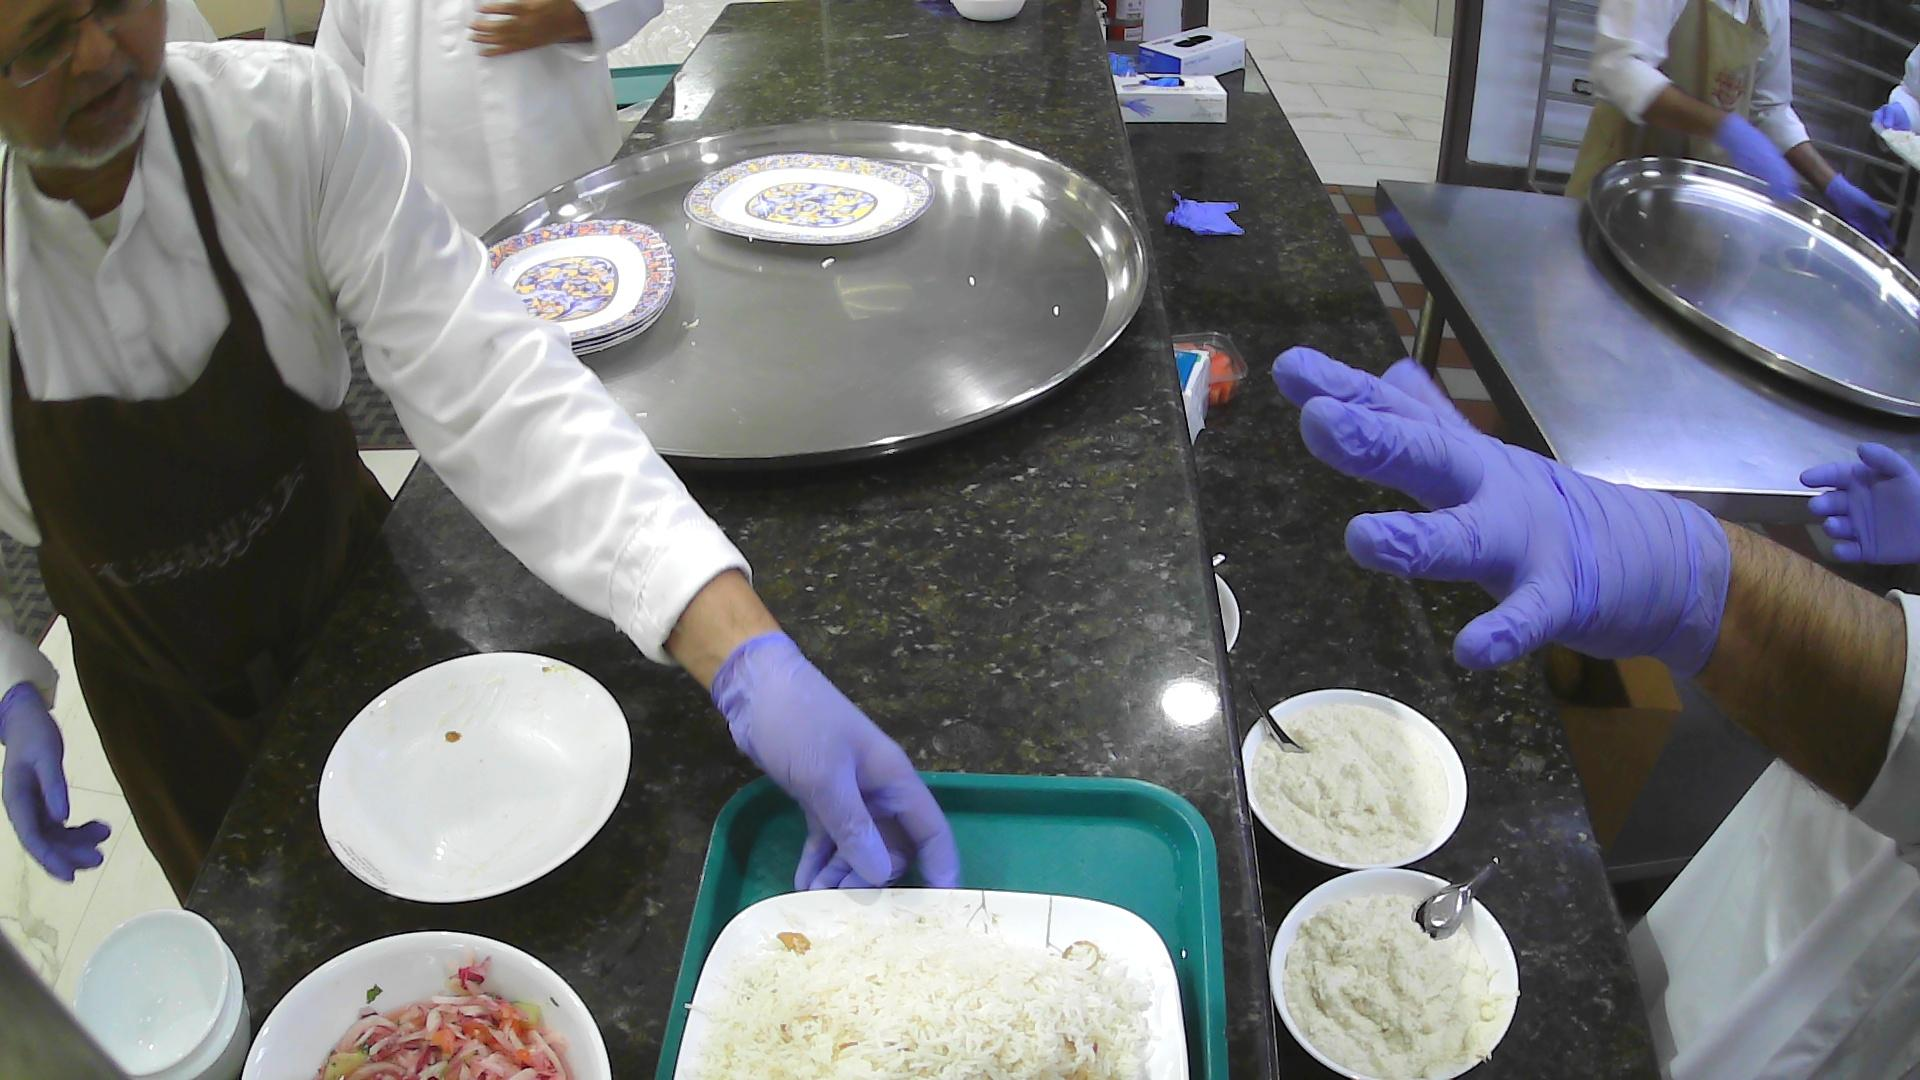thaal: (475, 115, 1150, 476), (1584, 153, 1920, 425)
